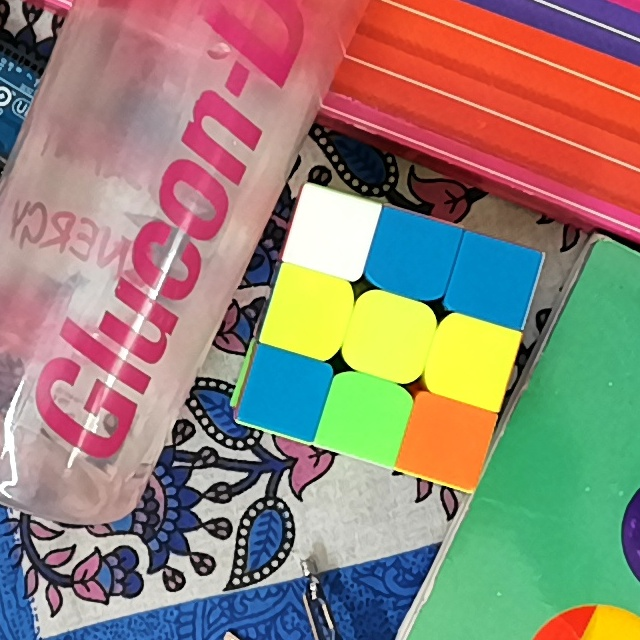tile: (357, 306, 419, 370), (333, 387, 397, 449), (416, 410, 479, 471), (380, 225, 442, 286), (461, 253, 522, 313), (441, 332, 501, 393), (280, 284, 340, 345), (255, 364, 315, 425), (303, 205, 362, 266)
